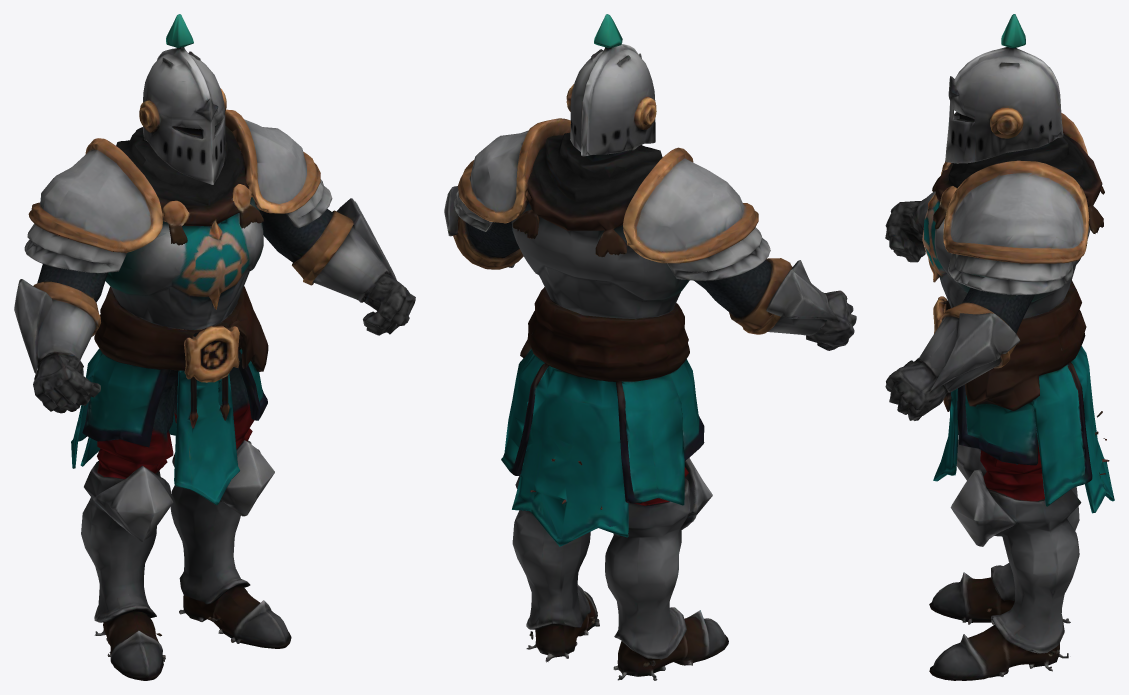
The model's file is raw.glb.
3 renders of one model, left to right at view 1: azimuth 30°, elevation 25°; view 2: azimuth 150°, elevation 25°; view 3: azimuth 270°, elevation 25°, orthographic. The views are drawn at different scales.
Parts seen in each view (by area): view 1: runebreaker/rare_trellis_concept_11_s7; view 2: runebreaker/rare_trellis_concept_11_s7; view 3: runebreaker/rare_trellis_concept_11_s7.
Boxes of the visible parts, x1,y1,x2,y2 form: runebreaker/rare_trellis_concept_11_s7: [14, 14, 415, 680]; runebreaker/rare_trellis_concept_11_s7: [444, 14, 856, 680]; runebreaker/rare_trellis_concept_11_s7: [885, 14, 1114, 680].
Size of the model in its own units: 0.6391 by 1 by 0.3316.
1 material, 1 textured.
